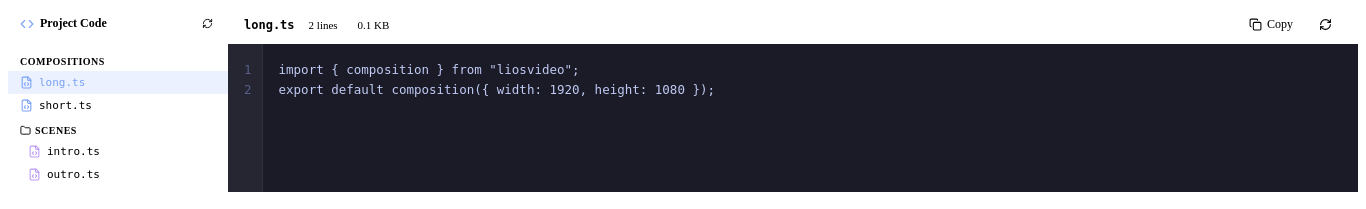
CodeViewer › renders code files list and switches between files
Expected: the text "Project Code" is shown, [40, 16, 107, 31]
Expected: the text "intro.ts" is shown, [47, 145, 100, 158]
// Click on scenes/intro.ts
What coordinates should you click on to do the following:
click the button "intro.ts"
I would click on:
 (118, 152)
Its box is [8, 140, 228, 163].
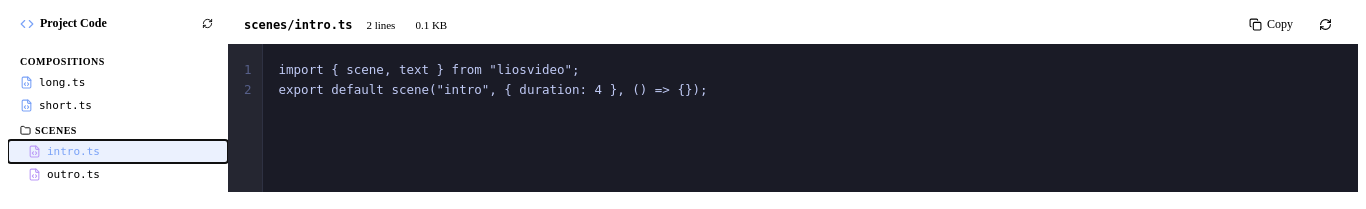
Expected: the text "export default scene" is shown, [278, 62, 708, 97]
